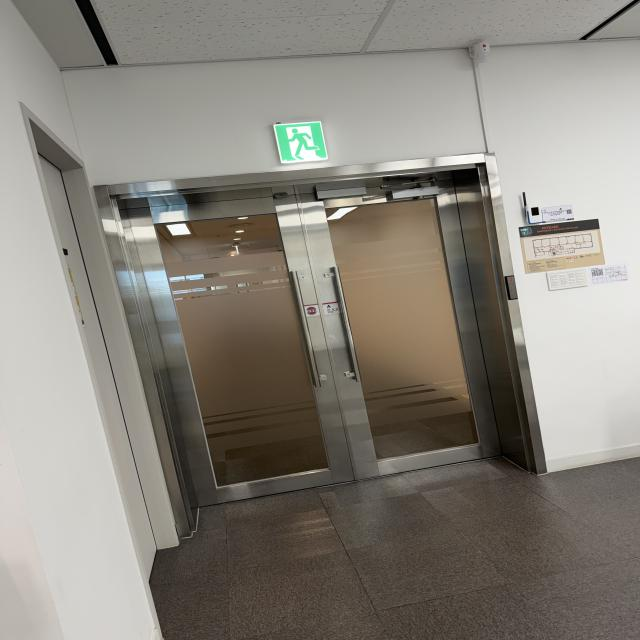rear_door: (122, 171, 522, 513)
